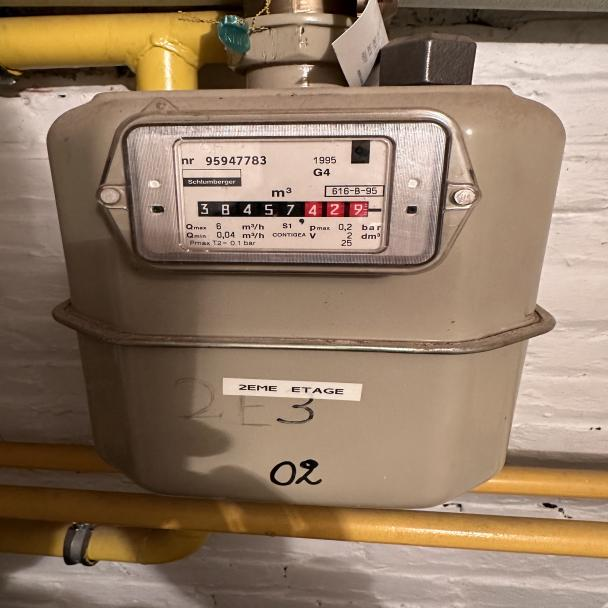2: (326, 201, 348, 219)
3: (197, 200, 217, 218)
4: (238, 200, 258, 218), (304, 200, 324, 218)
5: (259, 199, 278, 220)
7: (280, 200, 301, 218)
8: (217, 201, 239, 219)
9: (348, 199, 371, 219)
cm: (304, 198, 374, 222)
counter: (194, 198, 307, 222)
